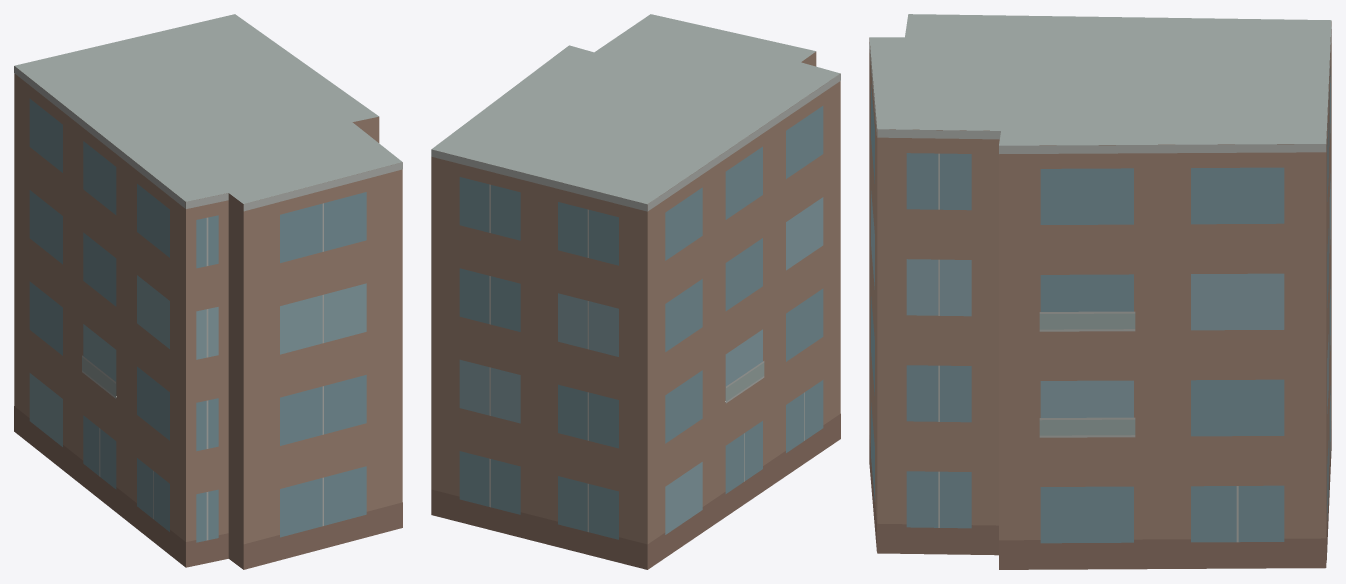
The model's file is survey-upis-32479462.glb.
3 renders of one model, left to right at view 1: azimuth 30°, elevation 25°; view 2: azimuth 150°, elevation 25°; view 3: azimuth 270°, elevation 25°, orthographic. The views are drawn at different scales.
Visible parts, largest first — view 1: survey-upis-32479462.tmp; view 2: survey-upis-32479462.tmp; view 3: survey-upis-32479462.tmp.
Part boxes in pixels (<box>): survey-upis-32479462.tmp: <box>14,14,402,569</box>; survey-upis-32479462.tmp: <box>431,14,840,569</box>; survey-upis-32479462.tmp: <box>869,14,1331,569</box>.
Size of the model in its own units: 8.15 by 12.2 by 12.06.
